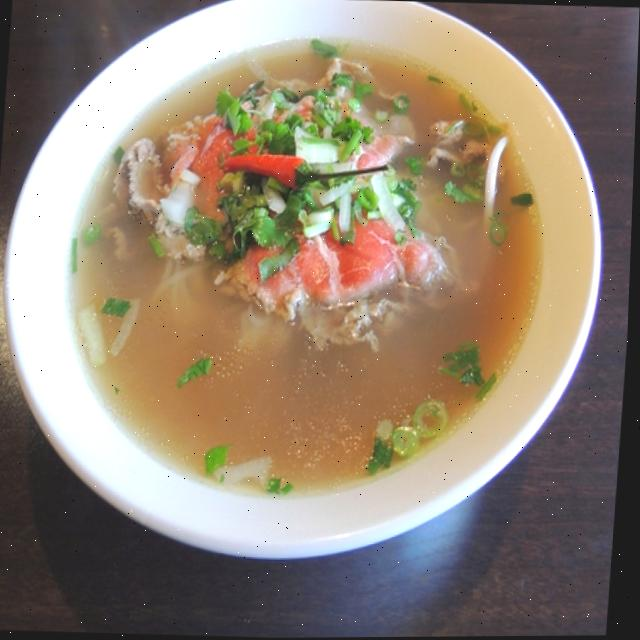面条主食: (0, 0, 627, 561)
